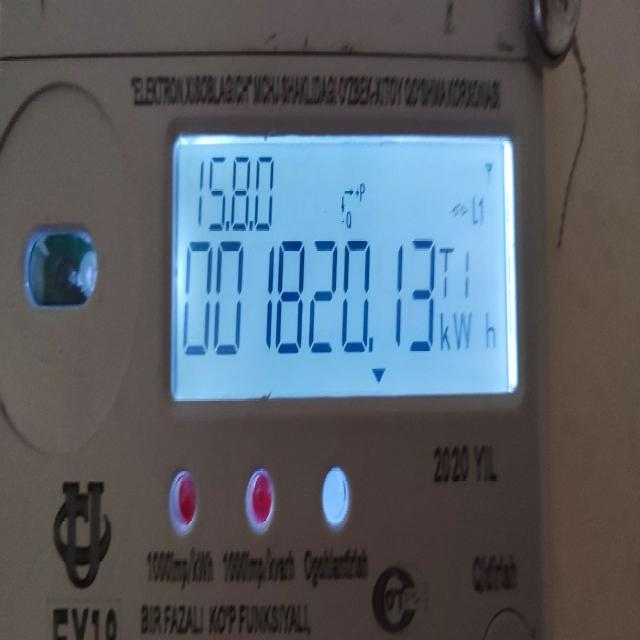-: (340, 215, 346, 228)
.: (366, 329, 374, 358), (224, 216, 231, 234), (249, 218, 254, 232)
0: (340, 238, 372, 356), (180, 240, 212, 357), (213, 240, 244, 356), (253, 154, 274, 232)
1: (389, 237, 405, 350), (263, 240, 275, 353), (194, 155, 206, 229), (460, 248, 474, 299)
2: (308, 236, 339, 358)
3: (406, 239, 436, 355)
5: (207, 154, 228, 232)
8: (276, 240, 305, 356), (230, 156, 250, 233)
screen: (171, 136, 507, 403)
